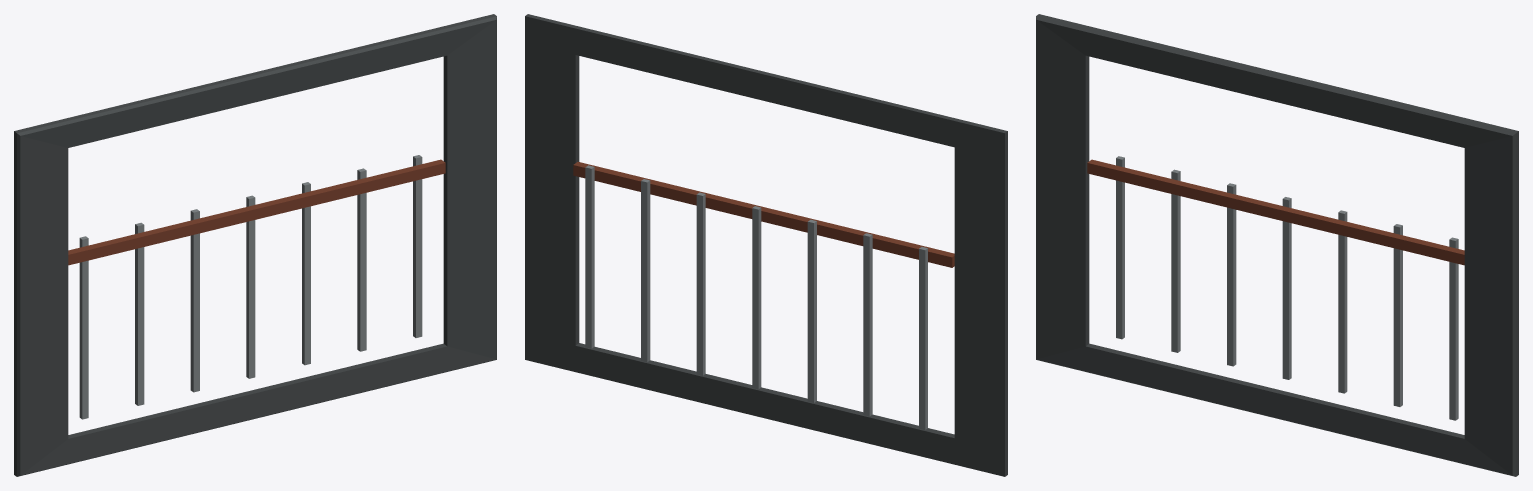
File: duct_grille.glb
3 views of the same model, side by side, from view 1: azimuth 30°, elevation 25°; view 2: azimuth 150°, elevation 25°; view 3: azimuth 330°, elevation 25° (orthographic).
Visible parts, largest first — view 1: Marco boca, Bisagra, Barrote, Barrote.005, Barrote.002, Barrote.006, Barrote.003, Barrote.001, Barrote.004; view 2: Marco boca, Bisagra, Barrote.001, Barrote.006, Barrote.002, Barrote.003, Barrote.004, Barrote.005, Barrote; view 3: Marco boca, Bisagra, Barrote.004, Barrote.006, Barrote.001, Barrote.002, Barrote.003, Barrote.005, Barrote.
Part boxes in pixels (x1,y1,x2,y2): Marco boca: (14, 14, 496, 476); Bisagra: (68, 159, 445, 265); Barrote: (79, 236, 88, 419); Barrote.005: (357, 168, 366, 351); Barrote.002: (190, 209, 199, 392); Barrote.006: (413, 155, 422, 337); Barrote.003: (246, 195, 255, 378); Barrote.001: (135, 222, 144, 405); Barrote.004: (302, 182, 310, 365); Marco boca: (525, 14, 1007, 476); Bisagra: (573, 162, 954, 267); Barrote.001: (863, 233, 872, 416); Barrote.006: (585, 165, 594, 348); Barrote.002: (807, 219, 816, 402); Barrote.003: (752, 206, 761, 389); Barrote.004: (696, 192, 705, 375); Barrote.005: (641, 179, 650, 362); Barrote: (919, 247, 927, 429); Marco boca: (1036, 14, 1518, 476); Bisagra: (1087, 159, 1464, 265); Barrote.004: (1338, 210, 1347, 393); Barrote.006: (1449, 237, 1458, 420); Barrote.001: (1171, 169, 1180, 352); Barrote.002: (1227, 183, 1236, 366); Barrote.003: (1282, 197, 1291, 379); Barrote.005: (1393, 224, 1402, 406); Barrote: (1116, 156, 1124, 339).
Bounding box in the file's own units: 1.9 × 1.3 × 0.08.
